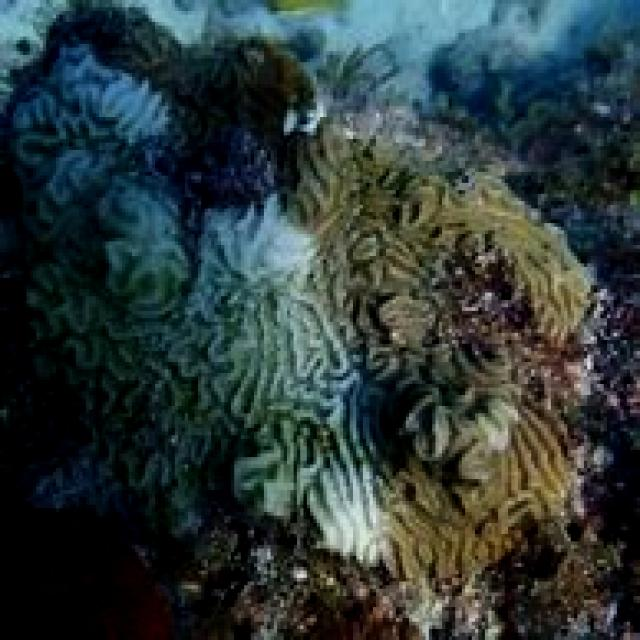Coral: (0, 0, 590, 594)
